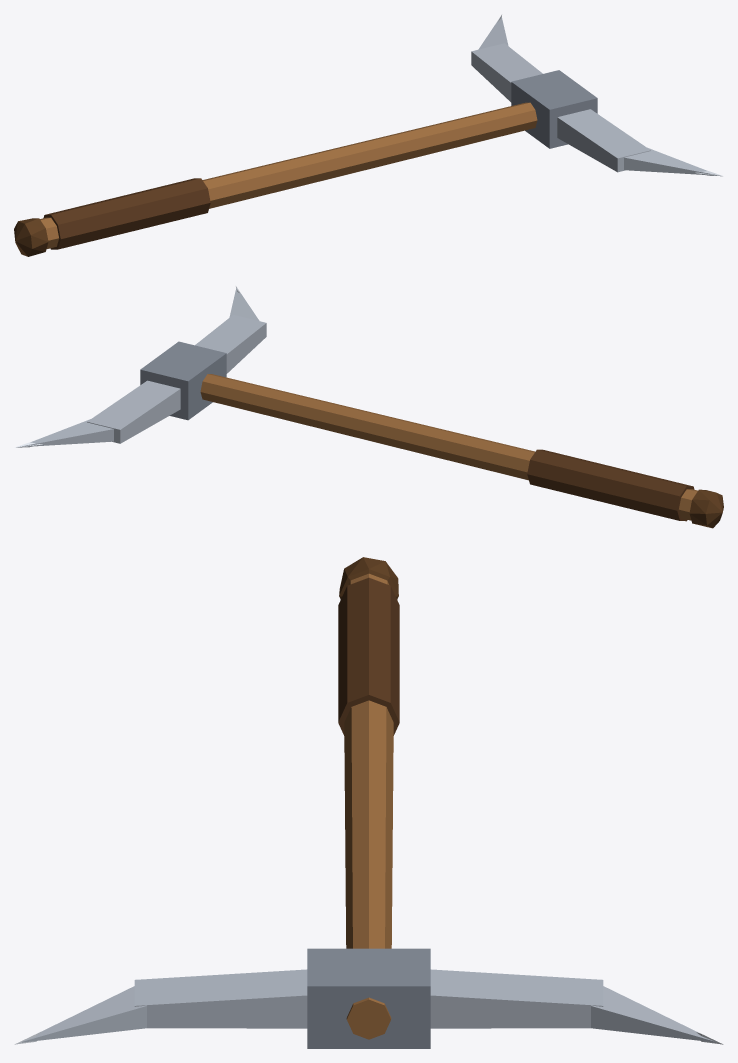
The model's file is drop_steel_pickaxe.glb.
3 views of the same model, one above another, from view 1: azimuth 30°, elevation 25°; view 2: azimuth 150°, elevation 25°; view 3: azimuth 270°, elevation 25° (orthographic). The views are drawn at different scales.
Visible parts, largest first — view 1: drop_steel_pickaxe; view 2: drop_steel_pickaxe; view 3: drop_steel_pickaxe.
Boxes of the visible parts, bbox=[...] form: drop_steel_pickaxe: bbox=[14, 15, 723, 256]; drop_steel_pickaxe: bbox=[15, 286, 723, 528]; drop_steel_pickaxe: bbox=[14, 557, 723, 1048].
Size of the model in its own units: 0.7176 by 0.0448 by 0.4608.
